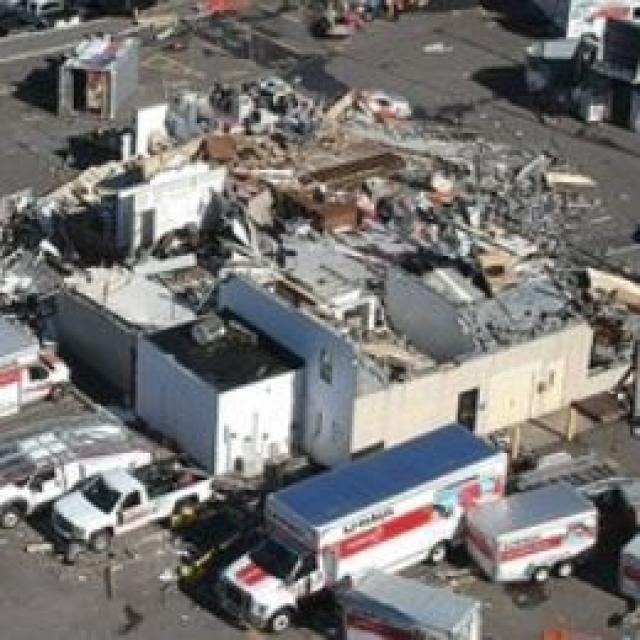collapsed_building: (54, 91, 591, 438)
